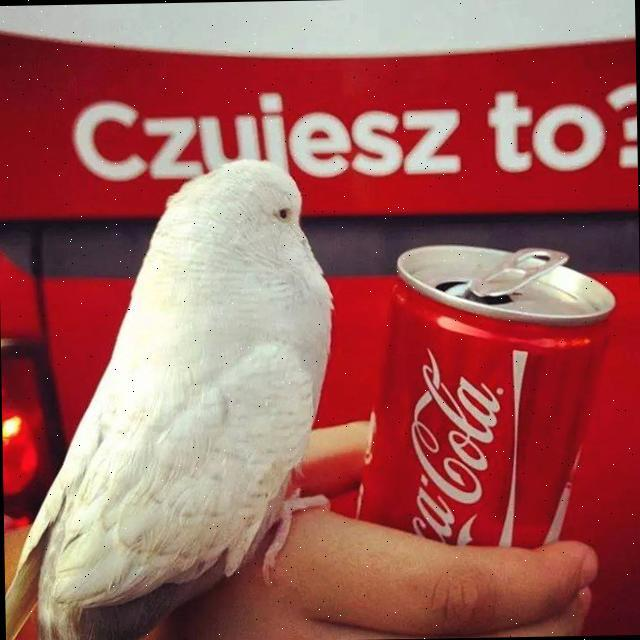coca-cola: (349, 240, 622, 550)
